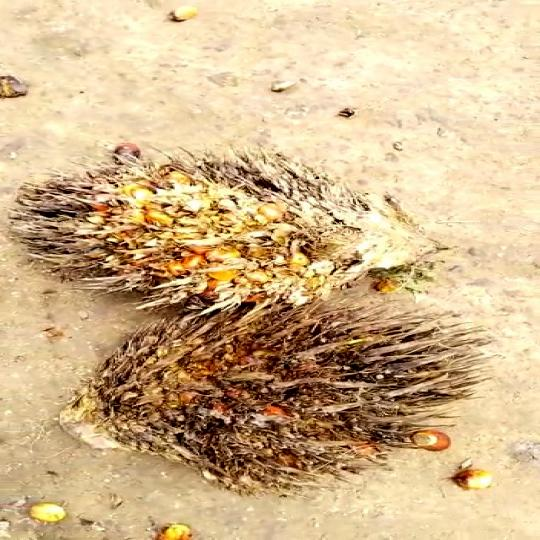terlalu masak: (41, 319, 478, 489), (0, 141, 391, 328)
